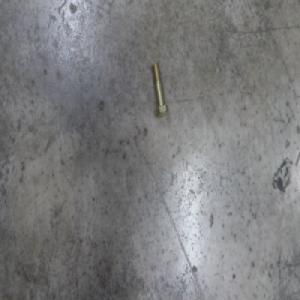Bolt: (152, 61, 169, 118)
